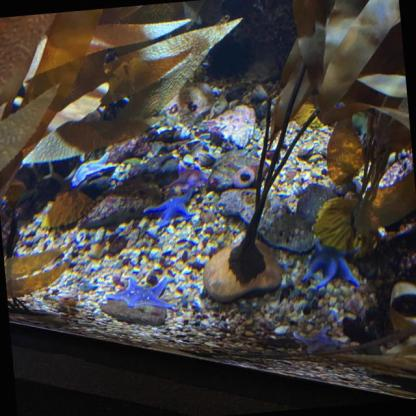starfish: (300, 232, 364, 291), (104, 272, 176, 316), (140, 185, 196, 229), (68, 152, 118, 188), (294, 325, 340, 356)
